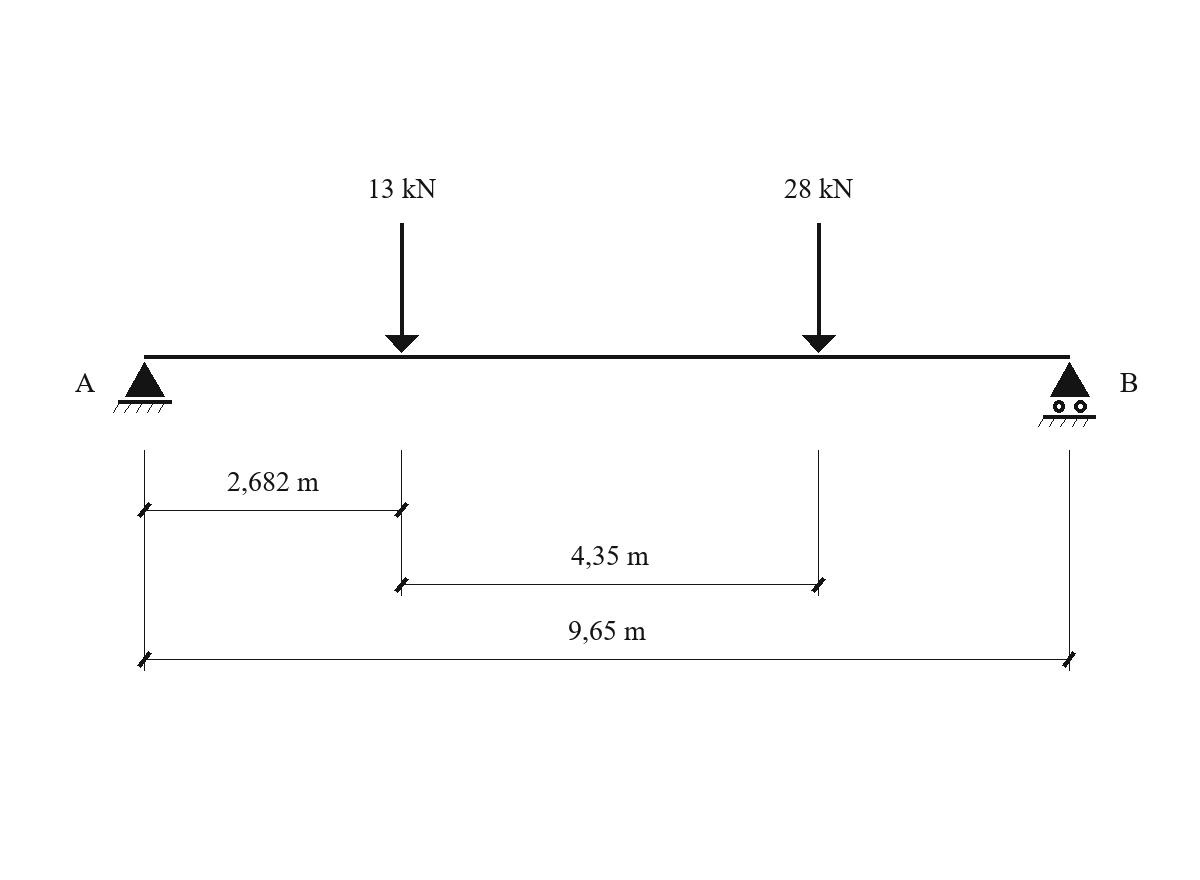pin_support: (113, 362, 172, 413)
point_load: (385, 223, 419, 353), (802, 223, 836, 353)
roller_support: (1038, 362, 1096, 427)
